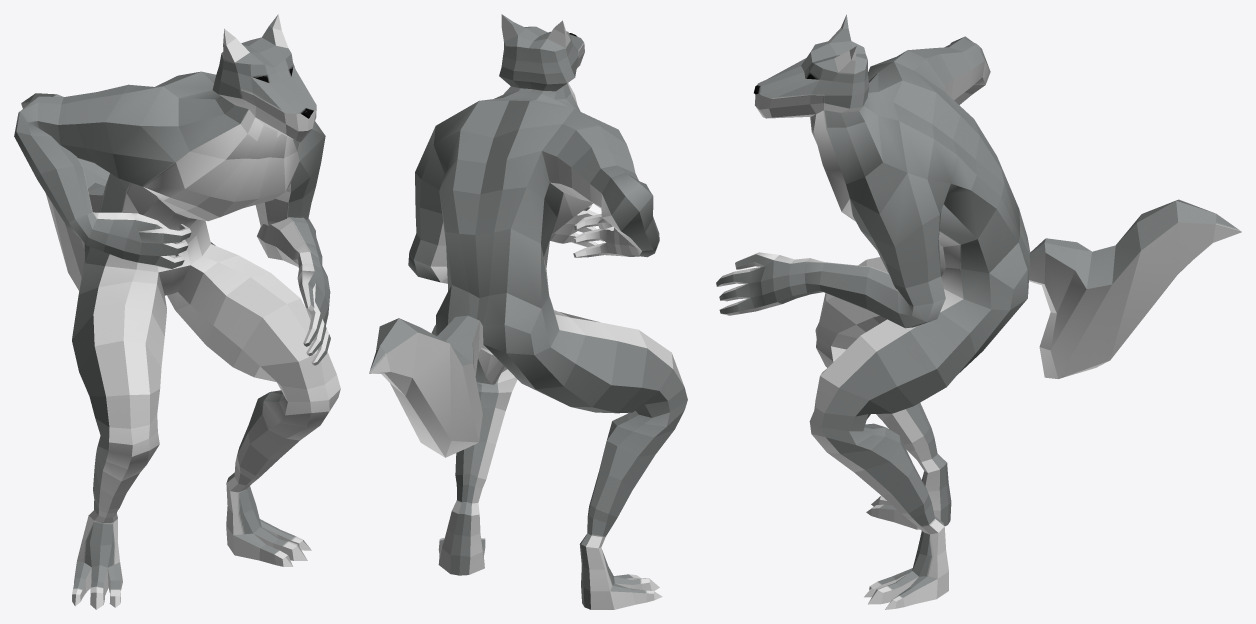
File: WolfIdle_(50).obj
3 renders of one model, left to right at view 1: azimuth 30°, elevation 25°; view 2: azimuth 150°, elevation 25°; view 3: azimuth 270°, elevation 25°, orthographic. The views are drawn at different scales.
Parts seen in each view (by area): view 1: Box001; view 2: Box001; view 3: Box001.
Boxes of the visible parts, x1=… form: Box001: x1=14, y1=14, x2=340, y2=609; Box001: x1=369, y1=14, x2=687, y2=609; Box001: x1=716, y1=14, x2=1241, y2=609.
Bounding box in the file's own units: 67.39 × 133 × 115.
